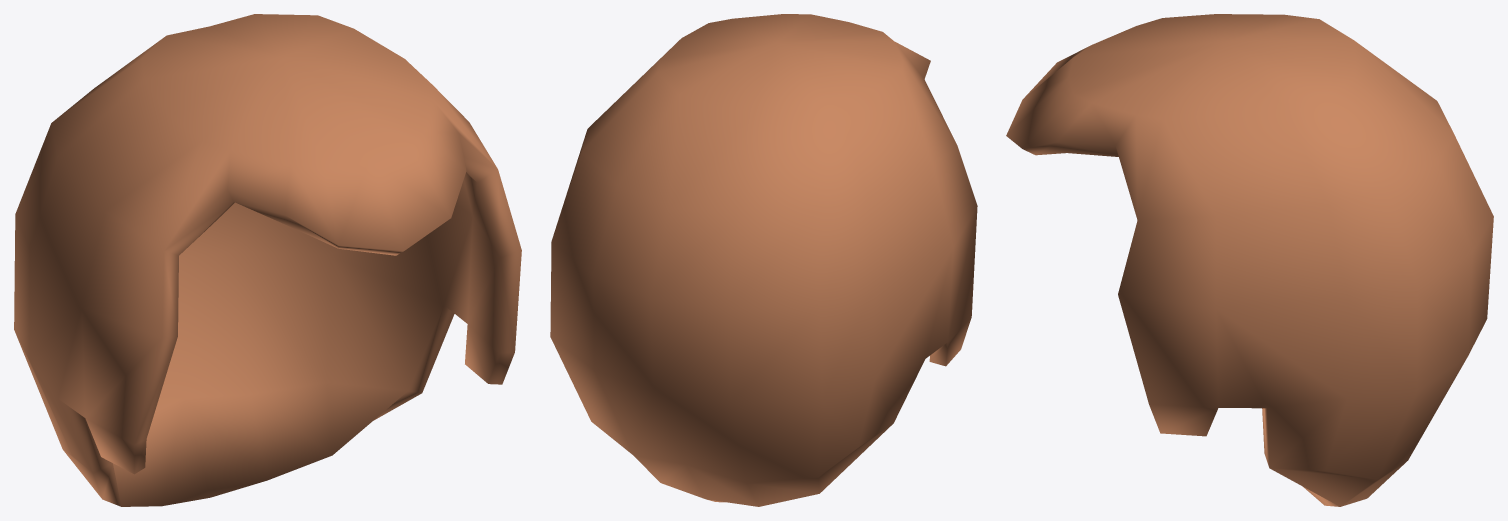
Rendered from Balding1.fbx.
The picture shows the model from 3 angles, left to right: view 1: azimuth 30°, elevation 25°; view 2: azimuth 150°, elevation 25°; view 3: azimuth 270°, elevation 25°; orthographic projection. The views are drawn at different scales.
Visible parts, largest first — view 1: 03 Hair - Balding 1; view 2: 03 Hair - Balding 1; view 3: 03 Hair - Balding 1.
Boxes of the visible parts, box(x1,y1,x2,y2) form: 03 Hair - Balding 1: box(14, 14, 521, 506); 03 Hair - Balding 1: box(550, 14, 977, 506); 03 Hair - Balding 1: box(1006, 14, 1493, 506).
Size of the model in its own units: 0.2147 by 0.2459 by 0.2453.
